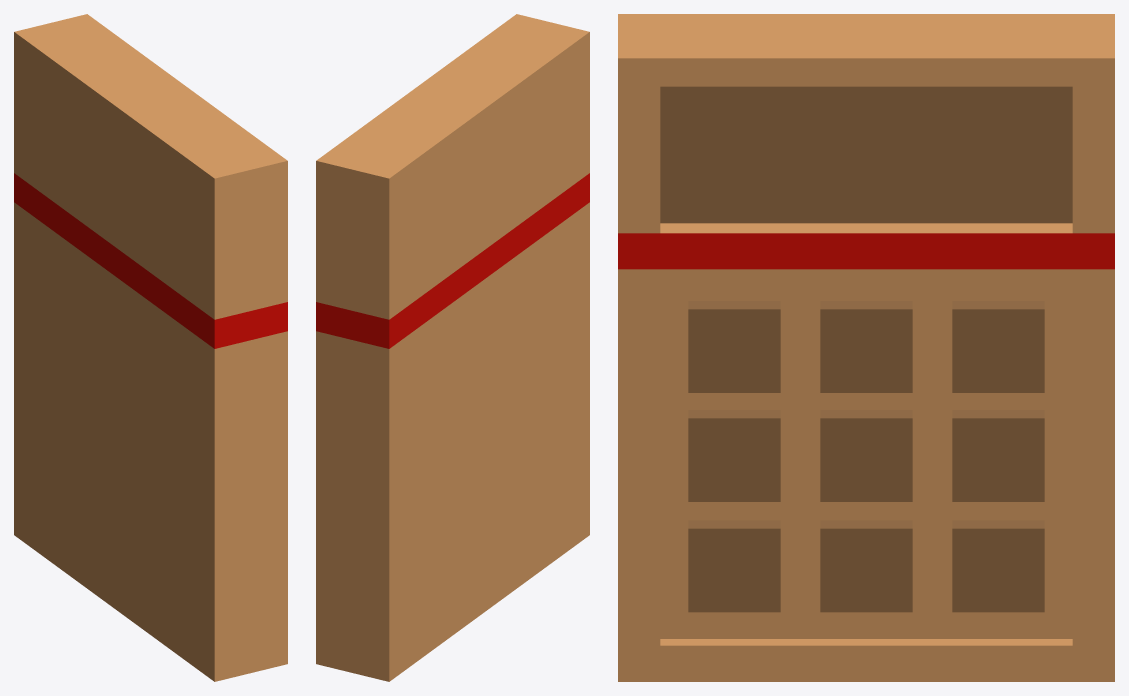
File: NumberBlockPuzzle.fbx
3 views of the same model, side by side, from view 1: azimuth 30°, elevation 25°; view 2: azimuth 150°, elevation 25°; view 3: azimuth 270°, elevation 25° (orthographic). The views are drawn at different scales.
Visible parts, largest first — view 1: Cube; view 2: Cube; view 3: Cube, Cube.007, Cube.008, Cube.009, Cube.001, Cube.002, Cube.003, Cube.004, Cube.005, Cube.006.
Part boxes in pixels (x1,y1,x2,y2): Cube: [14, 14, 287, 681]; Cube: [316, 14, 589, 681]; Cube: [618, 14, 1114, 681]; Cube.007: [688, 520, 780, 612]; Cube.008: [820, 520, 912, 612]; Cube.009: [952, 520, 1044, 612]; Cube.001: [688, 301, 780, 392]; Cube.002: [820, 301, 912, 392]; Cube.003: [952, 301, 1044, 392]; Cube.004: [688, 410, 780, 501]; Cube.005: [820, 410, 912, 501]; Cube.006: [952, 410, 1044, 501].
Size of the model in its own units: 57.05 by 264 by 365.
